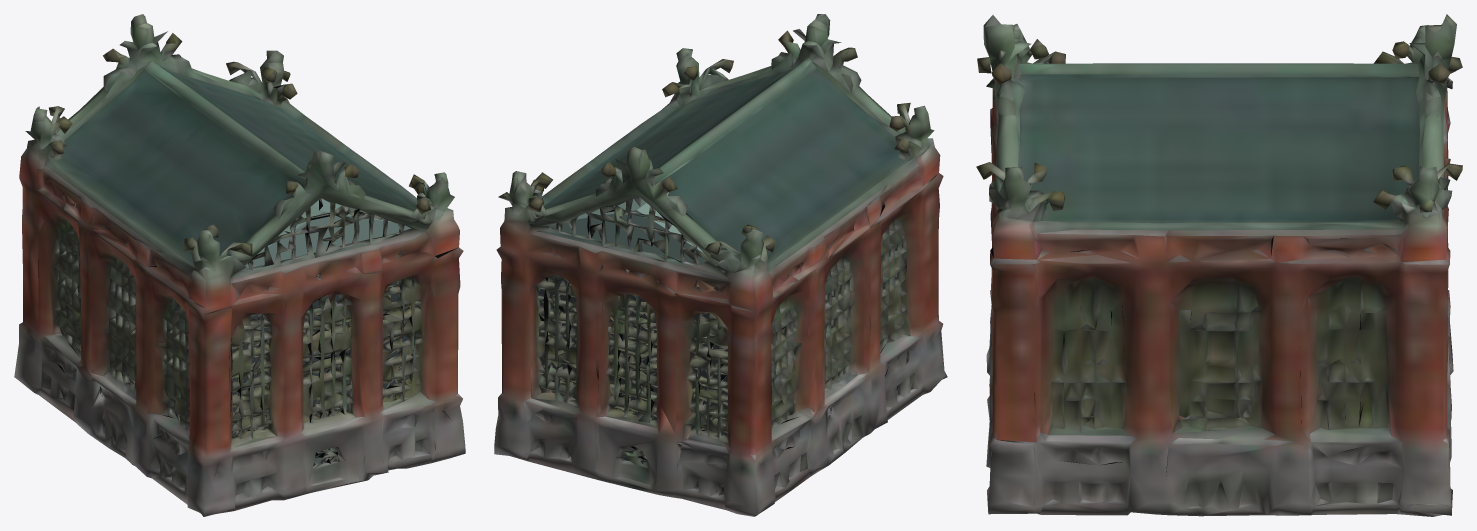
The model's file is harold_washington_library.glb.
3 renders of one model, left to right at view 1: azimuth 30°, elevation 25°; view 2: azimuth 150°, elevation 25°; view 3: azimuth 270°, elevation 25°, orthographic. The views are drawn at different scales.
Visible parts, largest first — view 1: harold_washington_library, hwl_roof_core, hwl_glass_core; view 2: harold_washington_library, hwl_roof_core, hwl_glass_core; view 3: harold_washington_library.
Boxes of the visible parts, <box> form: harold_washington_library: <box>14,14,465,516</box>; hwl_roof_core: <box>242,198,410,269</box>; hwl_glass_core: <box>99,281,420,462</box>; harold_washington_library: <box>494,14,947,516</box>; hwl_roof_core: <box>548,199,717,266</box>; hwl_glass_core: <box>539,230,852,463</box>; harold_washington_library: <box>976,14,1462,516</box>.
Size of the model in its own units: 58.07 by 70.52 by 74.36.
Materials: 3 (1 with a texture image).
